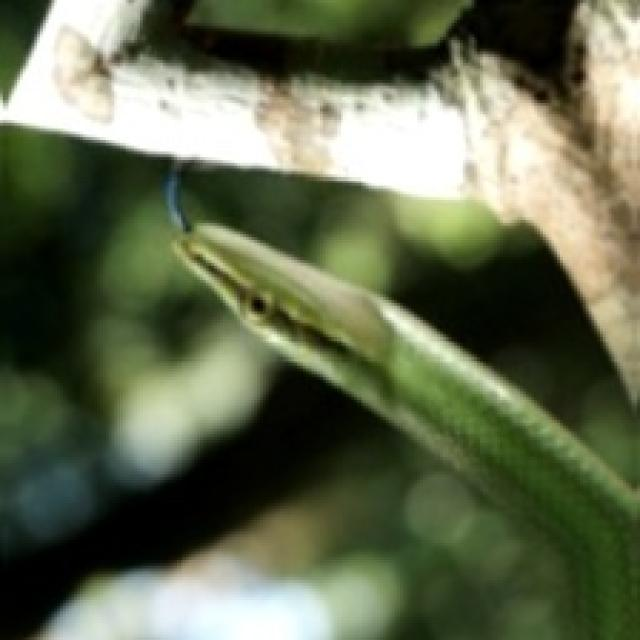red-tailed green ratsnake: (166, 169, 637, 637)
